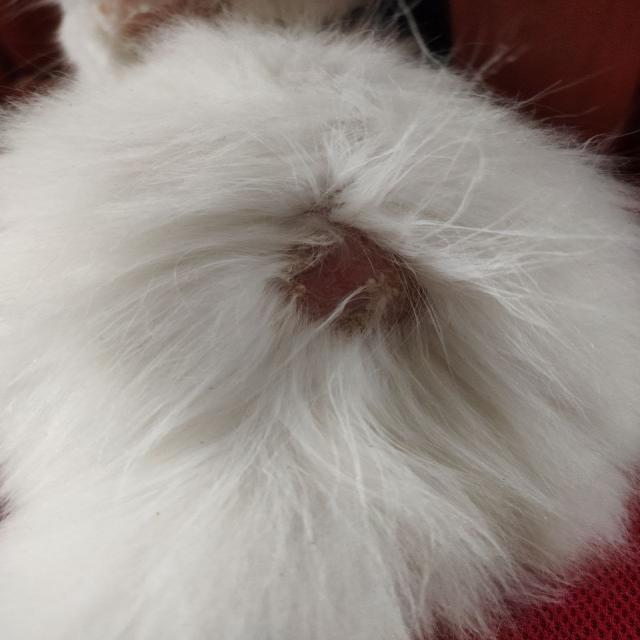hac lao: (202, 152, 490, 401)
